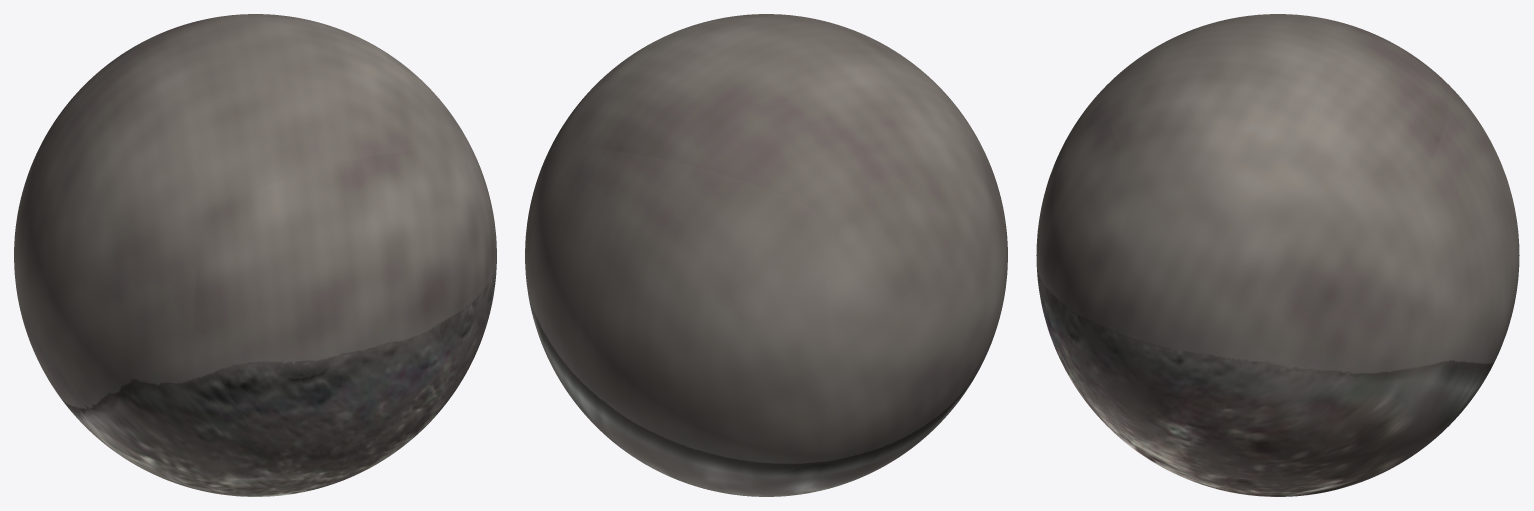
The model's file is oberon.glb.
3 views of the same model, side by side, from view 1: azimuth 30°, elevation 25°; view 2: azimuth 150°, elevation 25°; view 3: azimuth 270°, elevation 25° (orthographic).
Visible parts, largest first — view 1: oberon_globe; view 2: oberon_globe; view 3: oberon_globe.
Part boxes in pixels (x1=…): oberon_globe: x1=14, y1=14, x2=496, y2=496; oberon_globe: x1=525, y1=14, x2=1007, y2=496; oberon_globe: x1=1036, y1=14, x2=1519, y2=496.
Size of the model in its own units: 2 by 2 by 2.
1 material, 1 textured.
